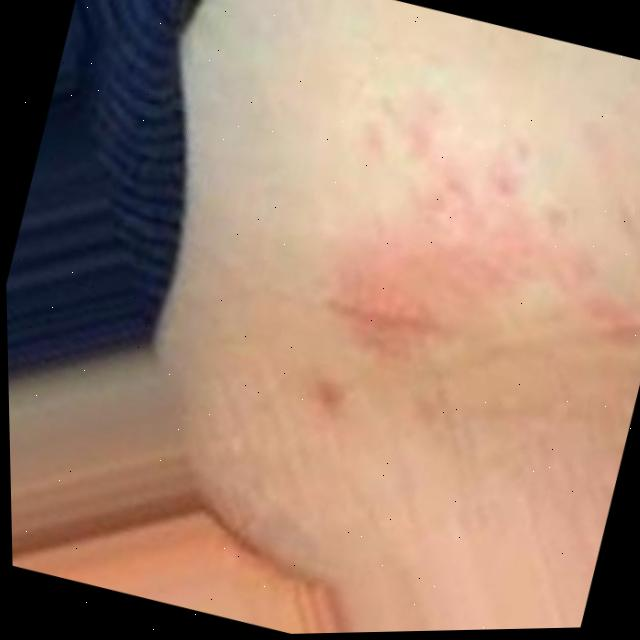Shingles: (302, 82, 640, 412)
